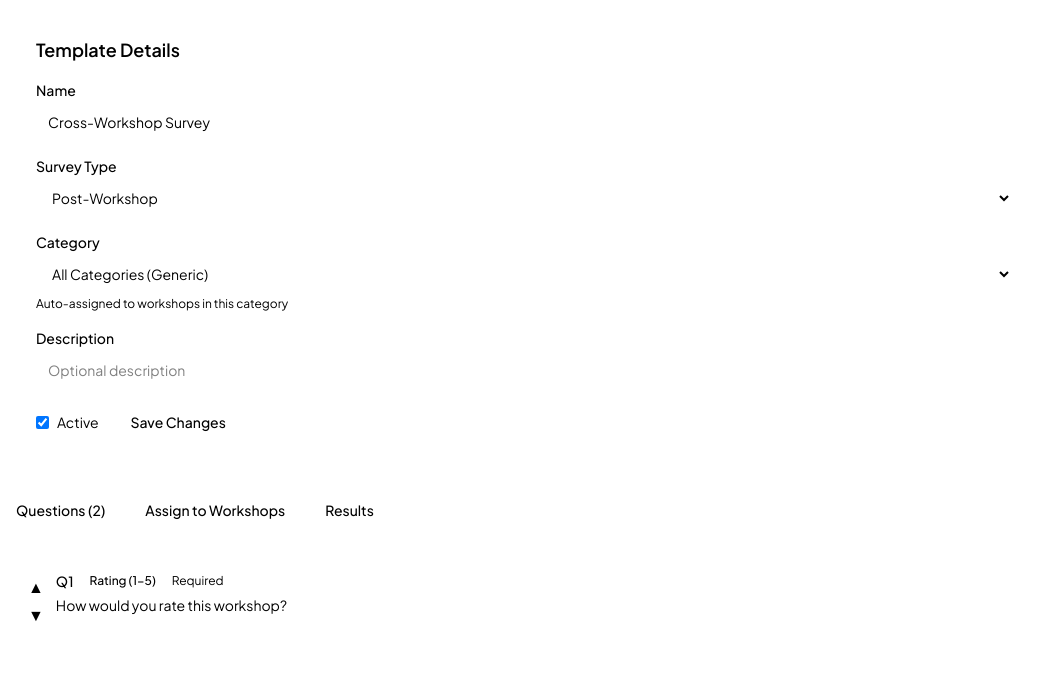
SurveyTemplateEditor Results tab (BUG-MAY13-2 / Task B2) › renders SurveyResultsContent (Respondents pill + workshop codes + per-person RATING) when the Results tab is opened
Click the button "Results": click(350, 510) [321,488,378,532]
(page scrolled)
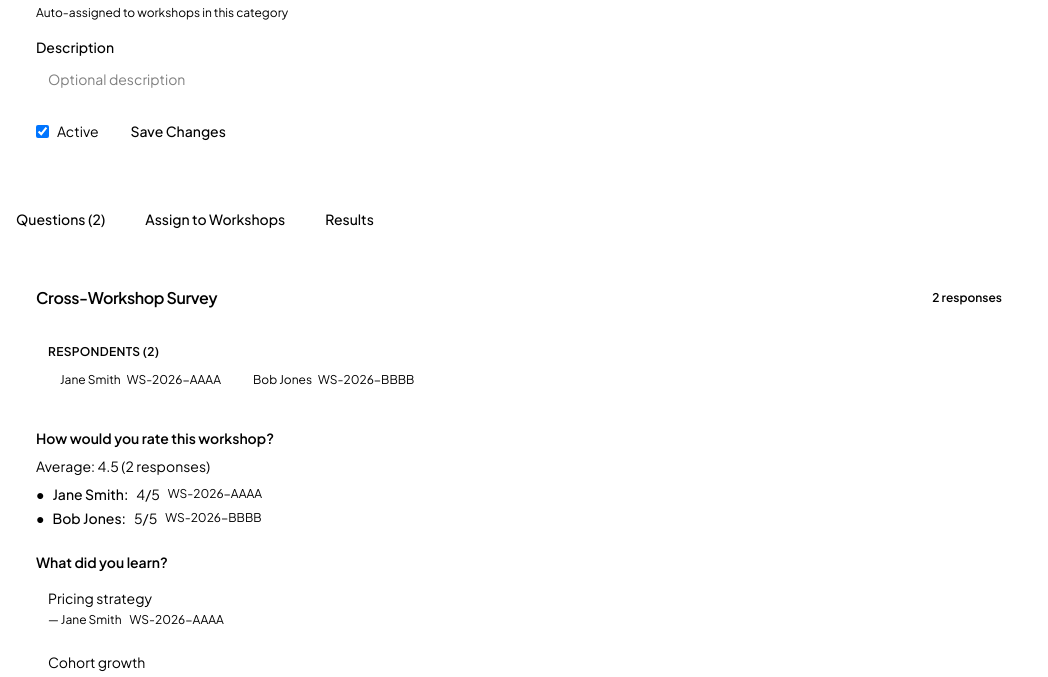
Check: the heading "Respondents (2)" is shown, box [48,344,159,359]
Check: the text "4/5" is shown, box [136,484,160,504]
Check: the text "5/5" is shown, box [134,508,157,528]
